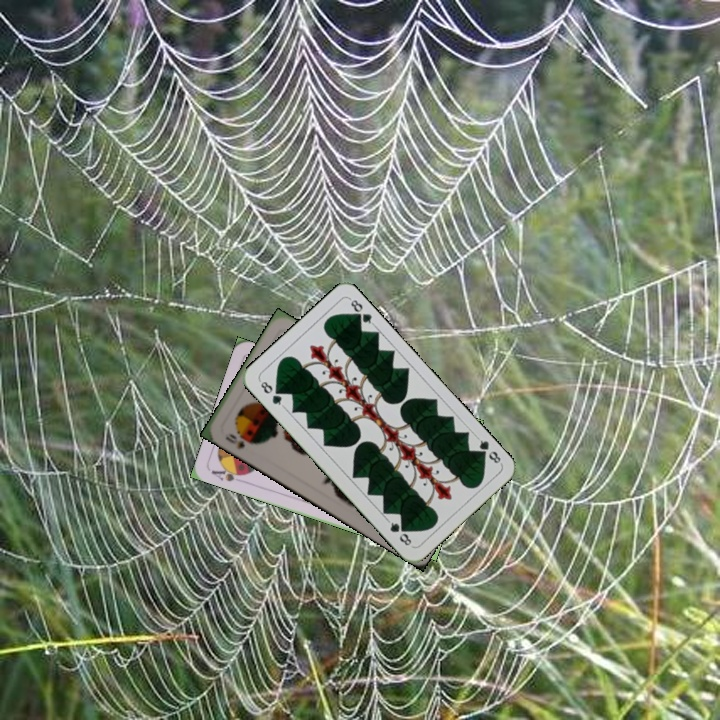G8: (473, 433, 505, 467), (256, 376, 287, 409)
SA: (207, 462, 249, 484)
SO: (221, 430, 248, 452)
